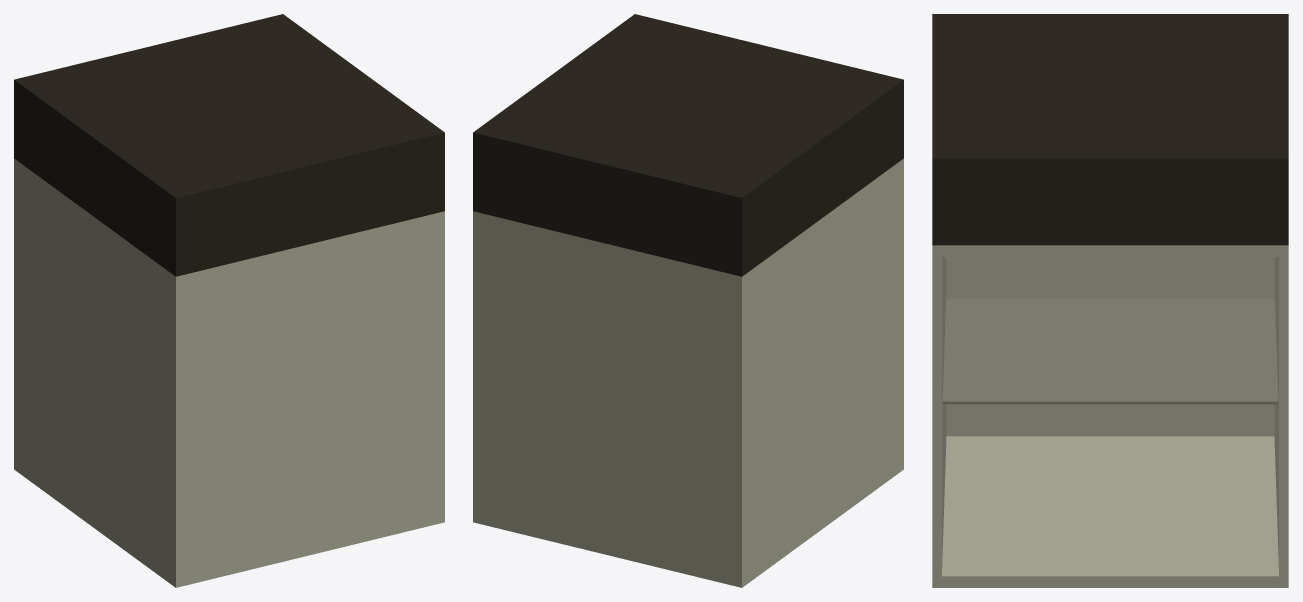
File: UpperCabinetCornerPieceV1.fbx
The picture shows the model from 3 angles, left to right: view 1: azimuth 30°, elevation 25°; view 2: azimuth 150°, elevation 25°; view 3: azimuth 270°, elevation 25°; orthographic projection. The views are drawn at different scales.
Parts seen in each view (by area): view 1: Cube; view 2: Cube; view 3: Cube.
Part boxes in pixels (x1,y1,x2,y2): Cube: [14, 14, 444, 587]; Cube: [473, 14, 903, 587]; Cube: [932, 14, 1288, 587].
Bounding box in the file's own units: 625 × 599 × 830.
